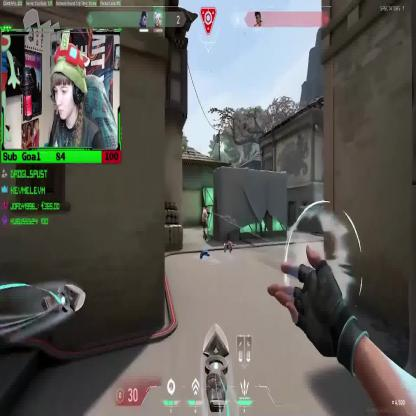enemy: (201, 204, 209, 240)
enemy_head: (204, 206, 208, 212)
